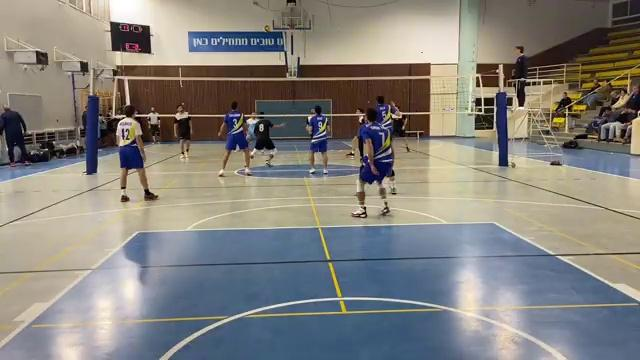ball: (263, 24, 273, 34)
